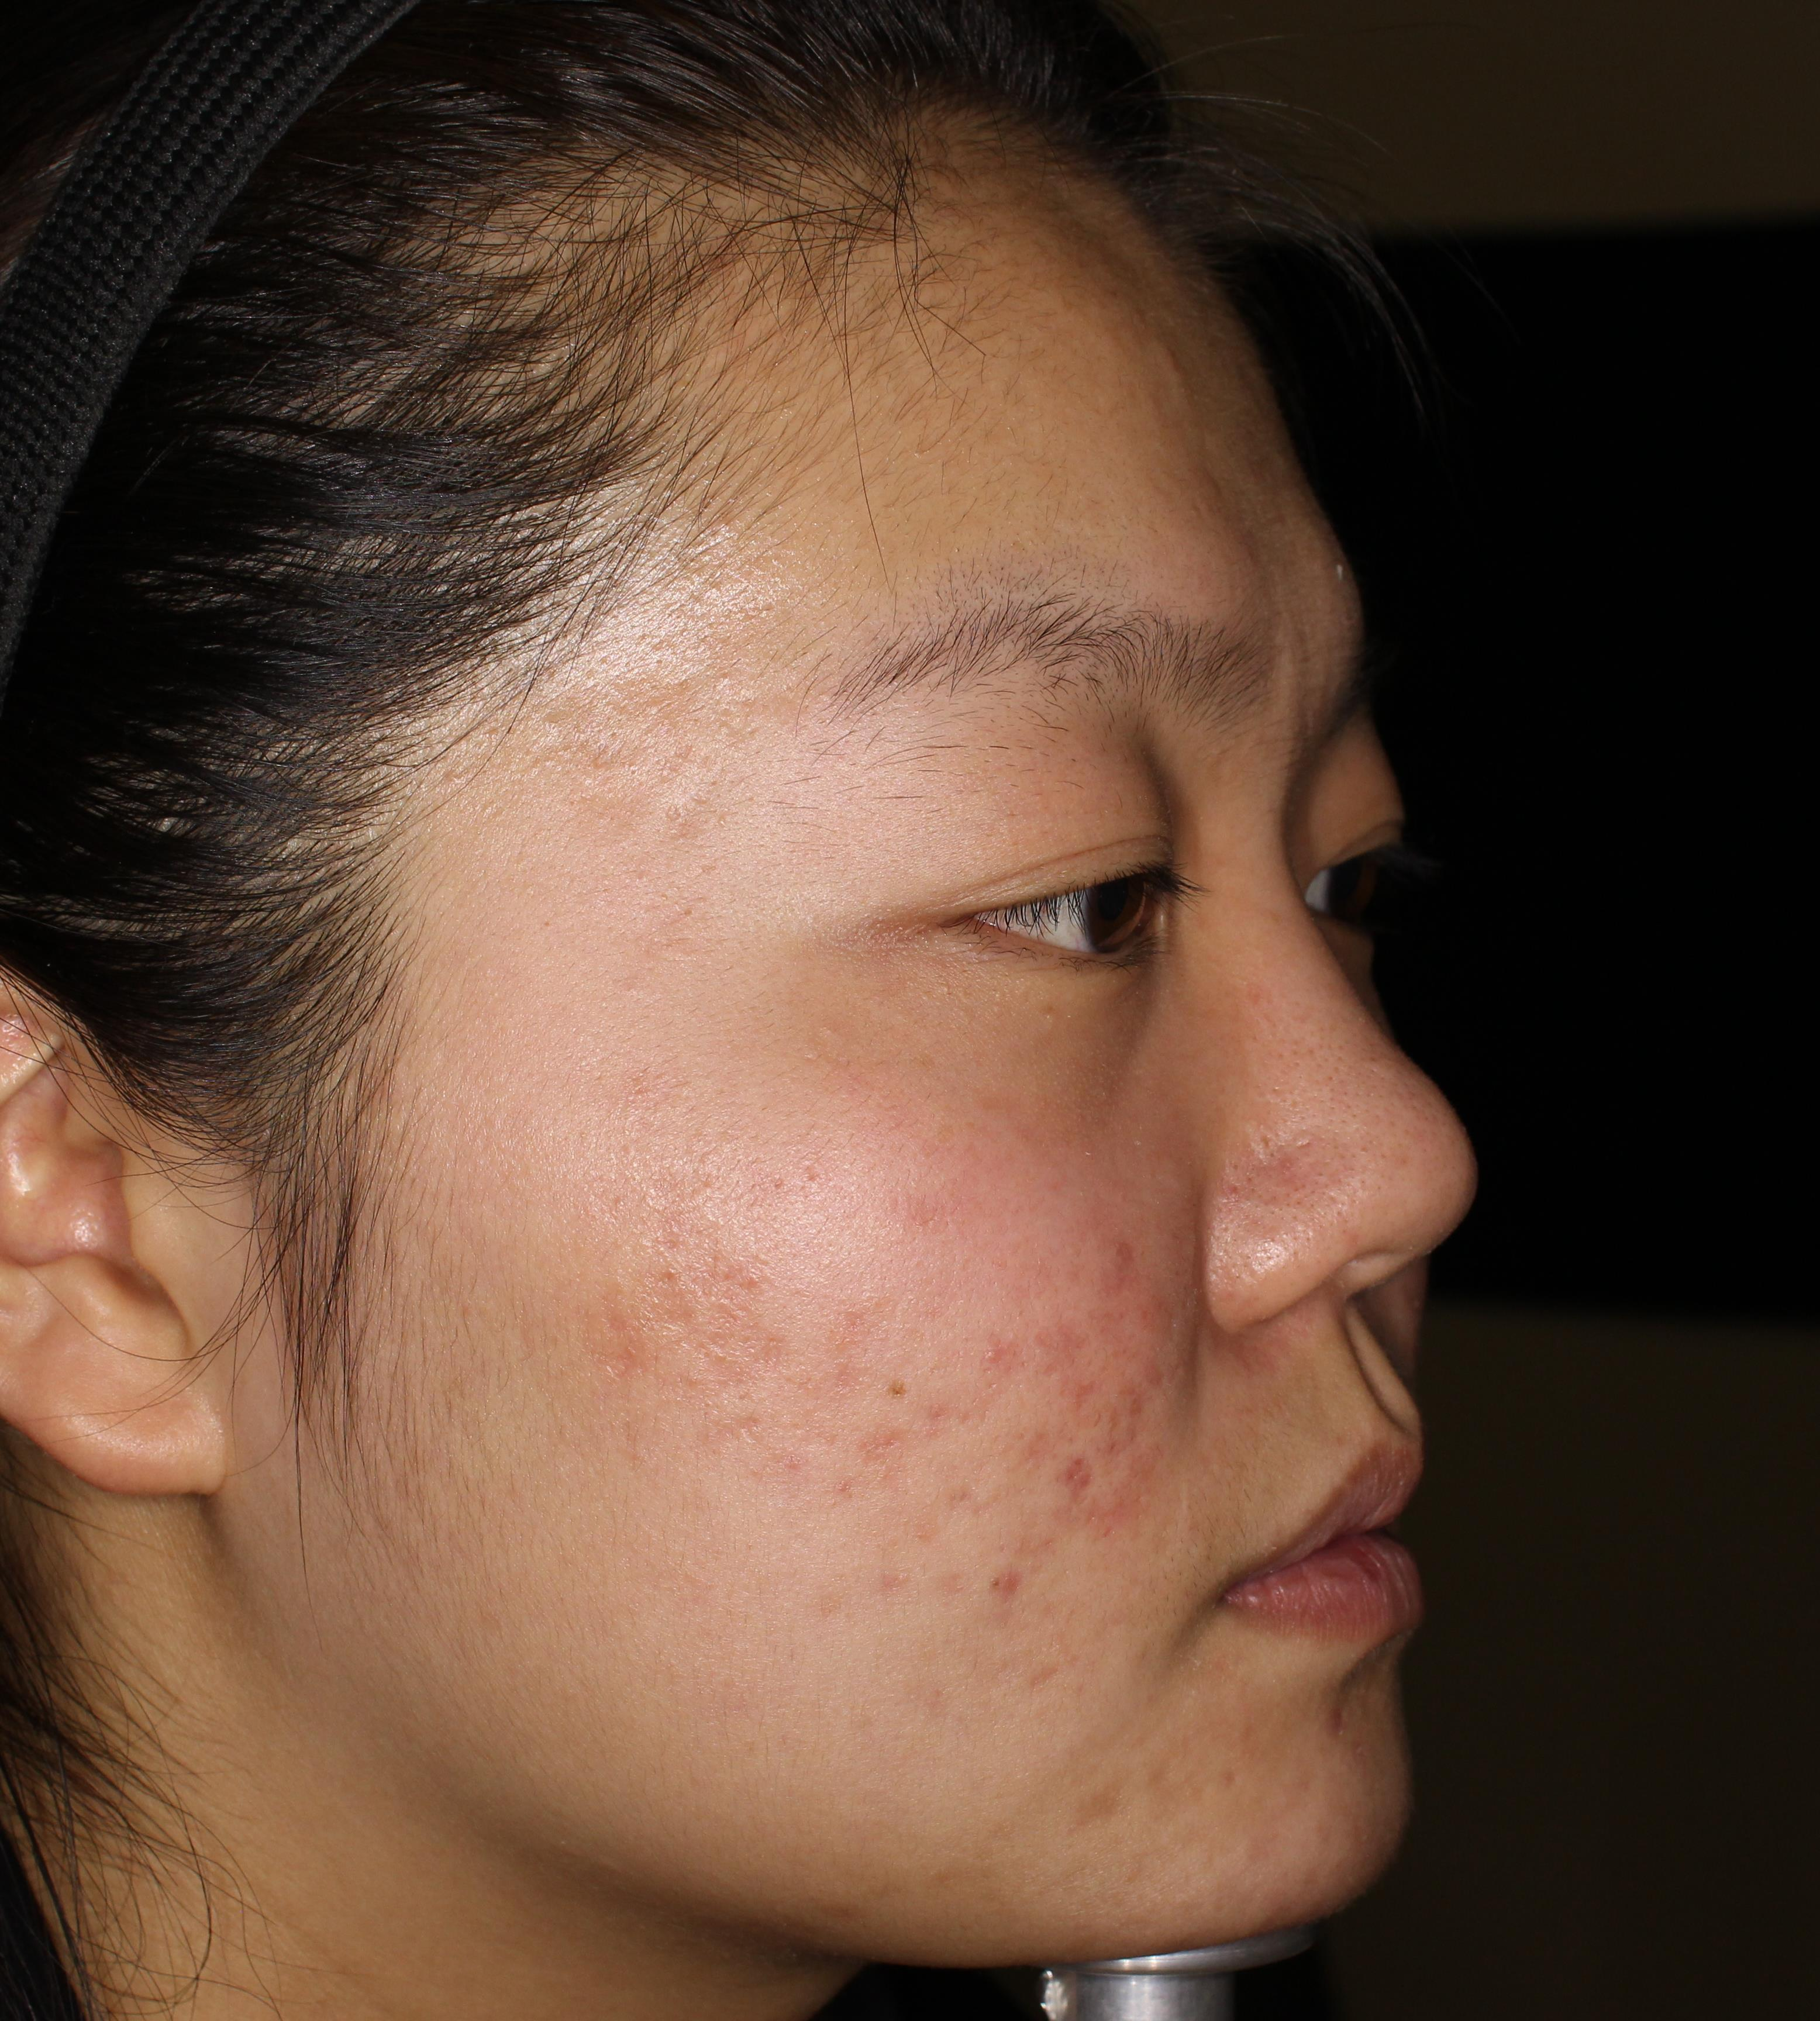fore: (750, 1306, 866, 1433), (1010, 1410, 1100, 1528), (942, 1312, 1031, 1428), (1109, 1370, 1184, 1487), (956, 1528, 1051, 1621), (1063, 1245, 1149, 1320), (1031, 1334, 1103, 1401)
